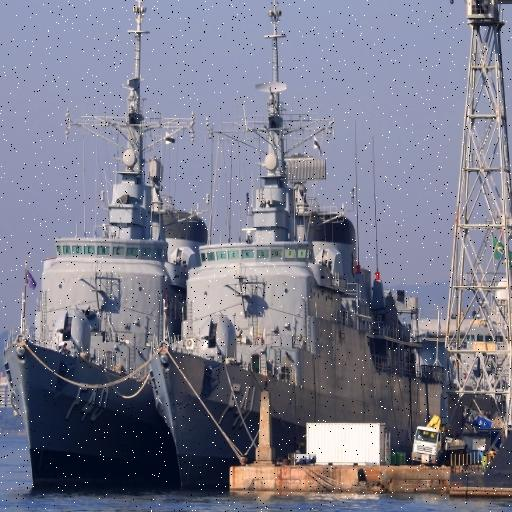Fragata: (143, 1, 446, 500), (1, 1, 217, 503)
